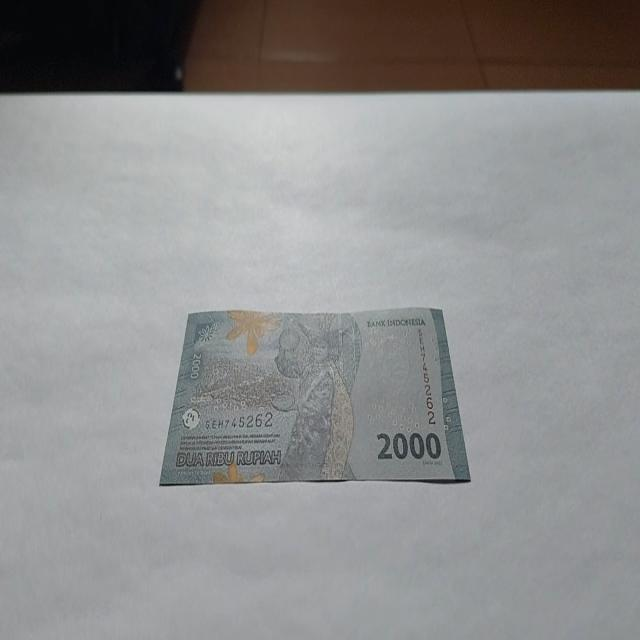dua ribu rupiah: (158, 304, 471, 486)
